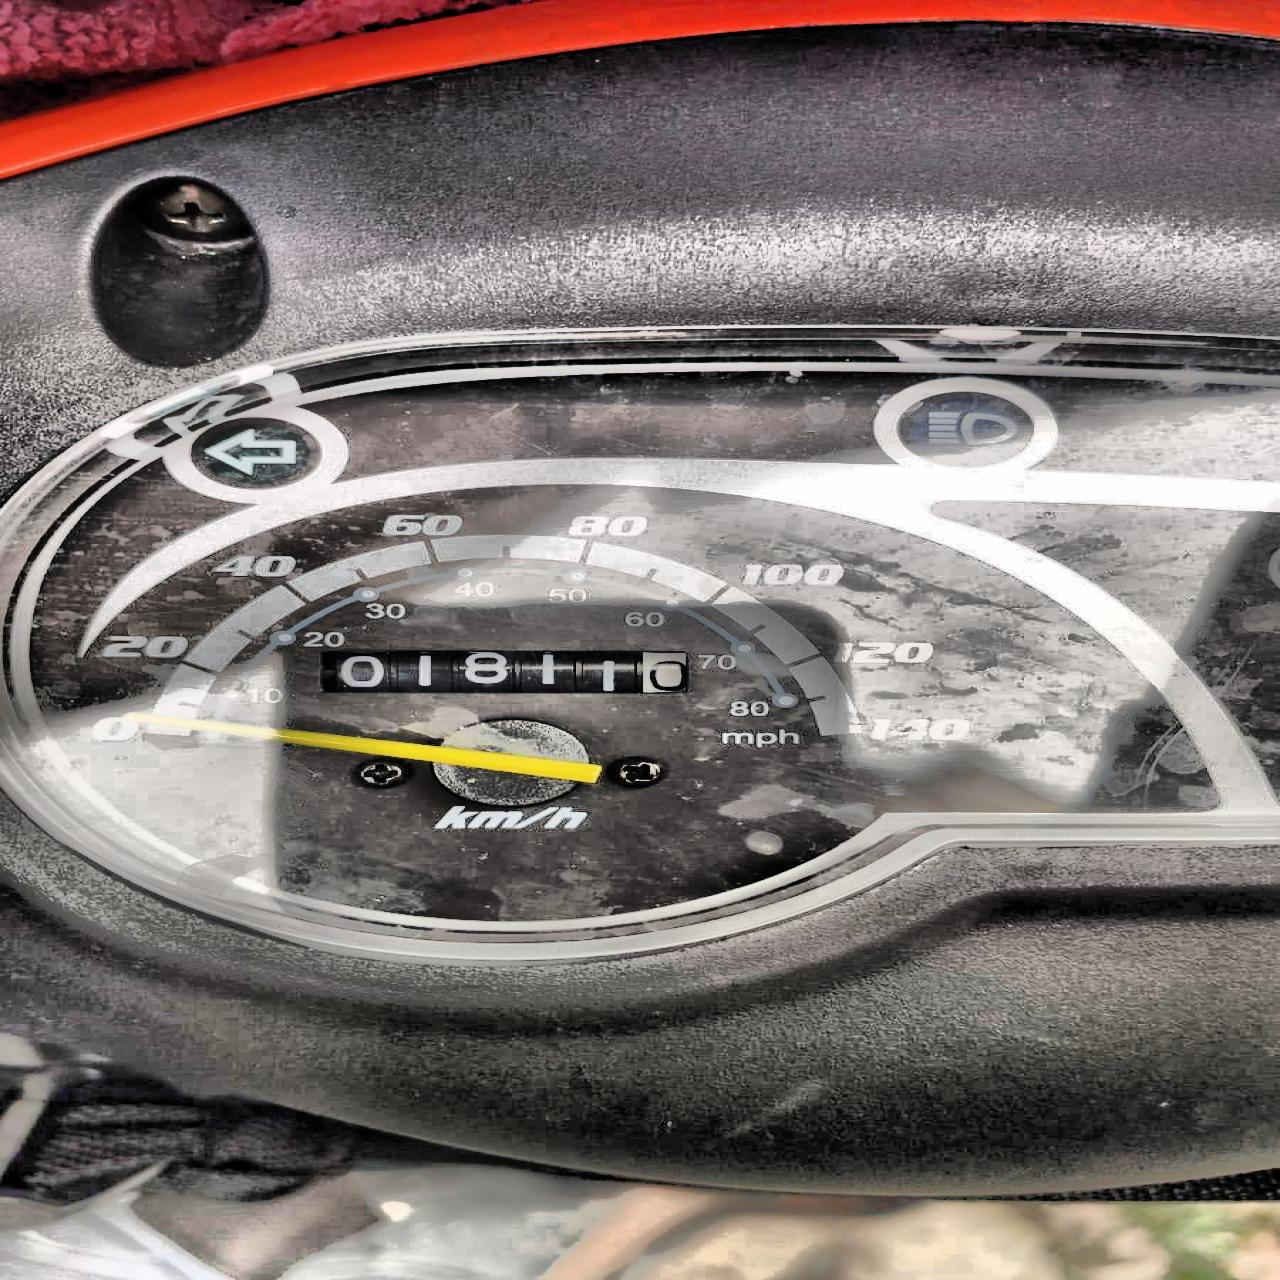0: (339, 654, 387, 688), (648, 658, 687, 692)
1: (595, 659, 621, 696), (411, 652, 435, 689), (536, 652, 558, 687)
8: (462, 652, 511, 685)
odometer: (316, 647, 690, 697)
